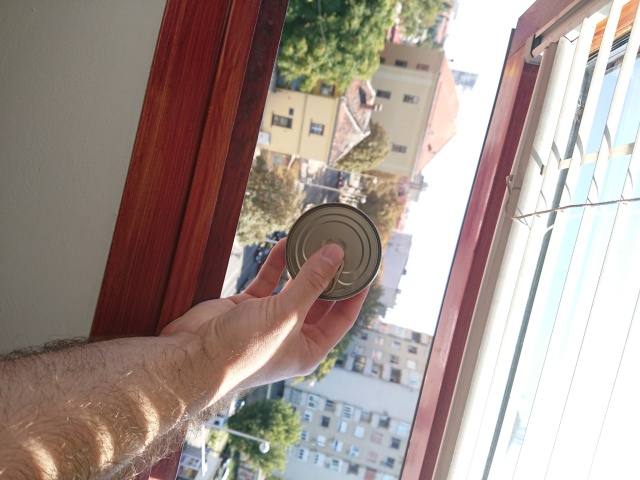Gavrilovic Pork Liver Pate 100g: (282, 199, 384, 304)
